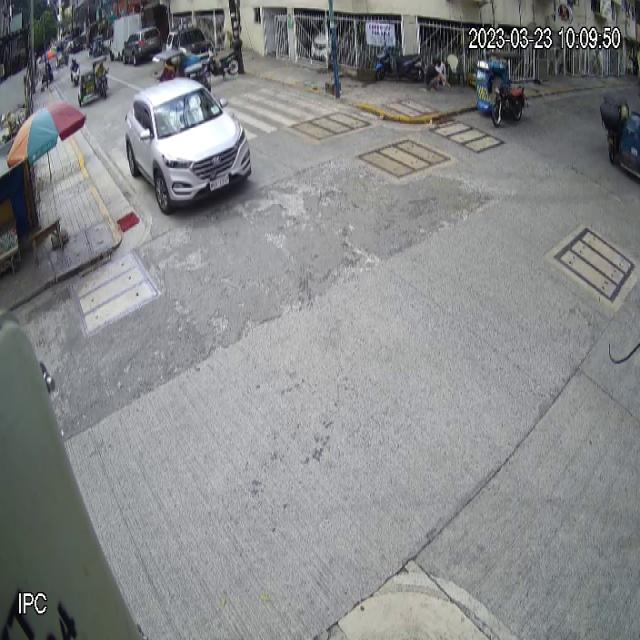Car: (125, 76, 253, 216)
Motorcycle: (376, 41, 424, 84)
Tricycle: (476, 51, 528, 128)
